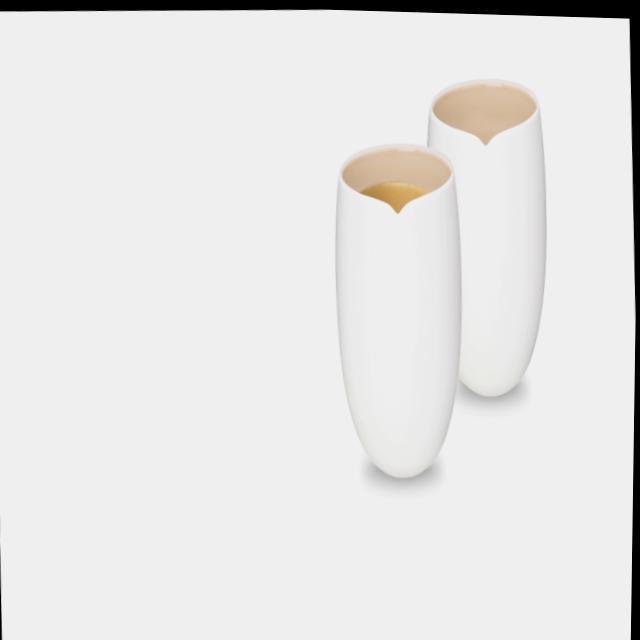cup: (292, 130, 493, 521), (378, 79, 582, 401)
